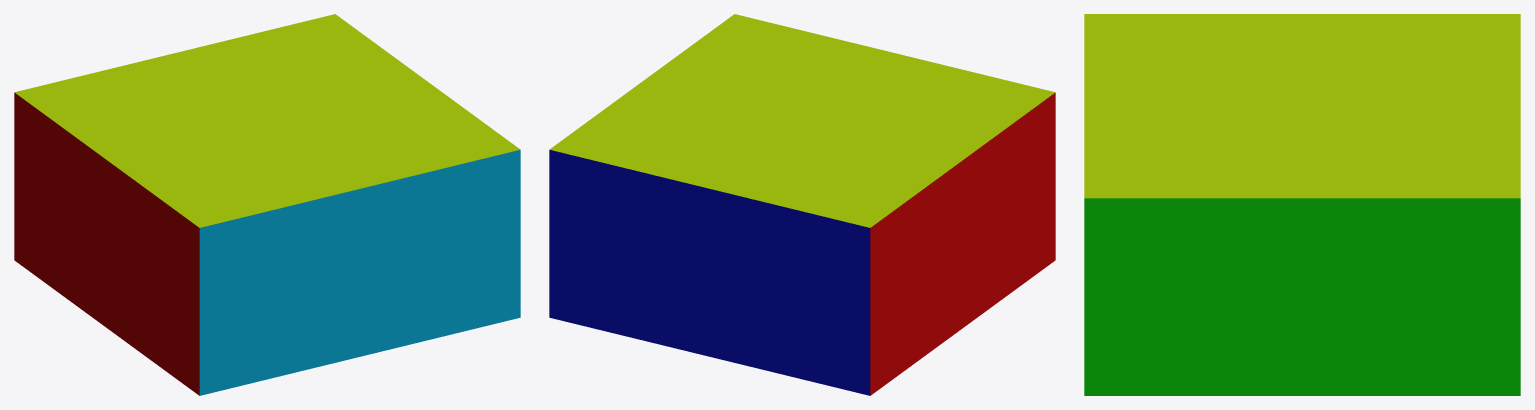
The picture shows the model from 3 angles, left to right: view 1: azimuth 30°, elevation 25°; view 2: azimuth 150°, elevation 25°; view 3: azimuth 270°, elevation 25°; orthographic projection. The views are drawn at different scales.
Visible parts, largest first — view 1: Cube; view 2: Cube; view 3: Cube.
Part boxes in pixels (left/top/right/bottom): Cube: left=14, top=14, right=520, bottom=395; Cube: left=549, top=14, right=1055, bottom=395; Cube: left=1084, top=14, right=1520, bottom=395.
Bounding box in the file's own units: 40 × 20 × 40.
